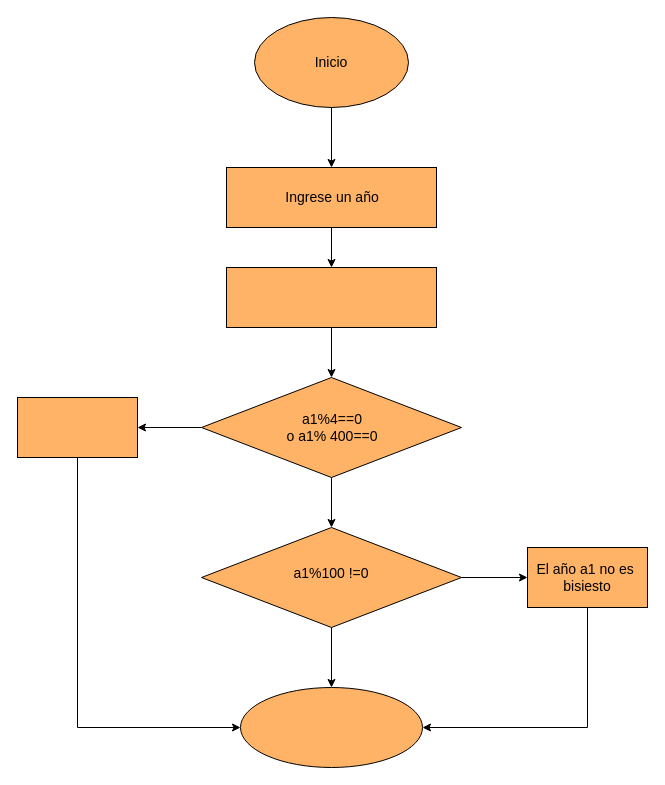
This 665x785 diagram has some shape labels left out. The shapes that lost their labels are listed below. From the top down, each one's centre as x and y in pixels, then its label:
At (331,297): "a1=input()".
At (77,427): "El año a1 es bisiesto".
At (331,727): "Fin".
